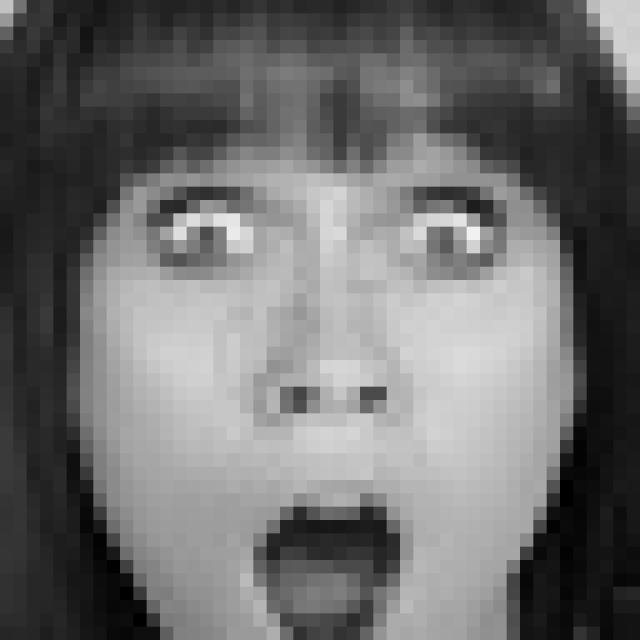surprise: (130, 107, 515, 640)
